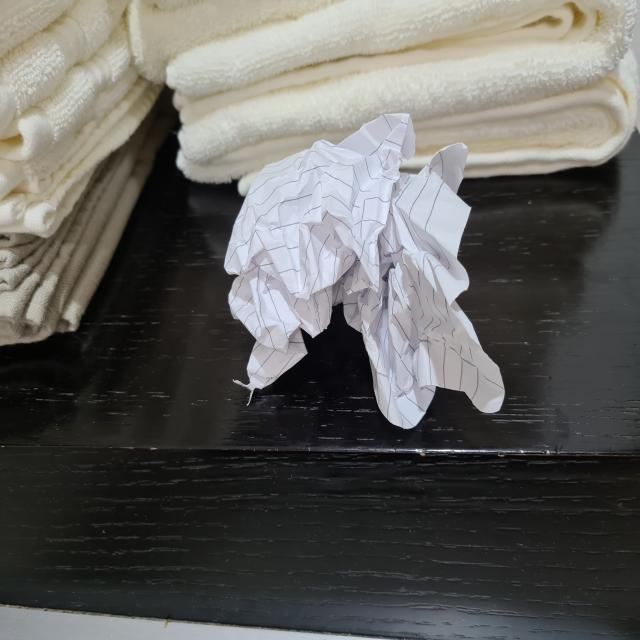Paper: (227, 113, 506, 432)
